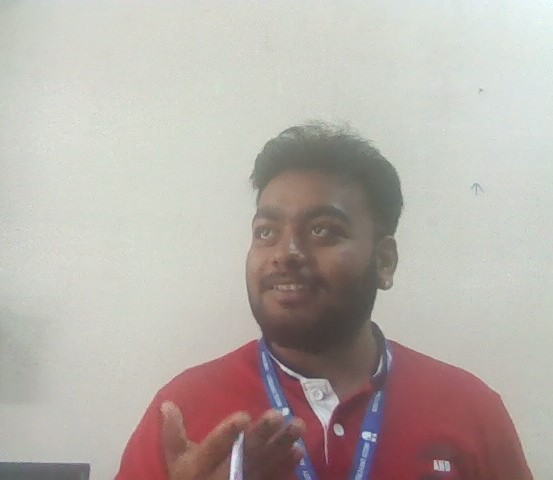smoking: (159, 394, 304, 480)
